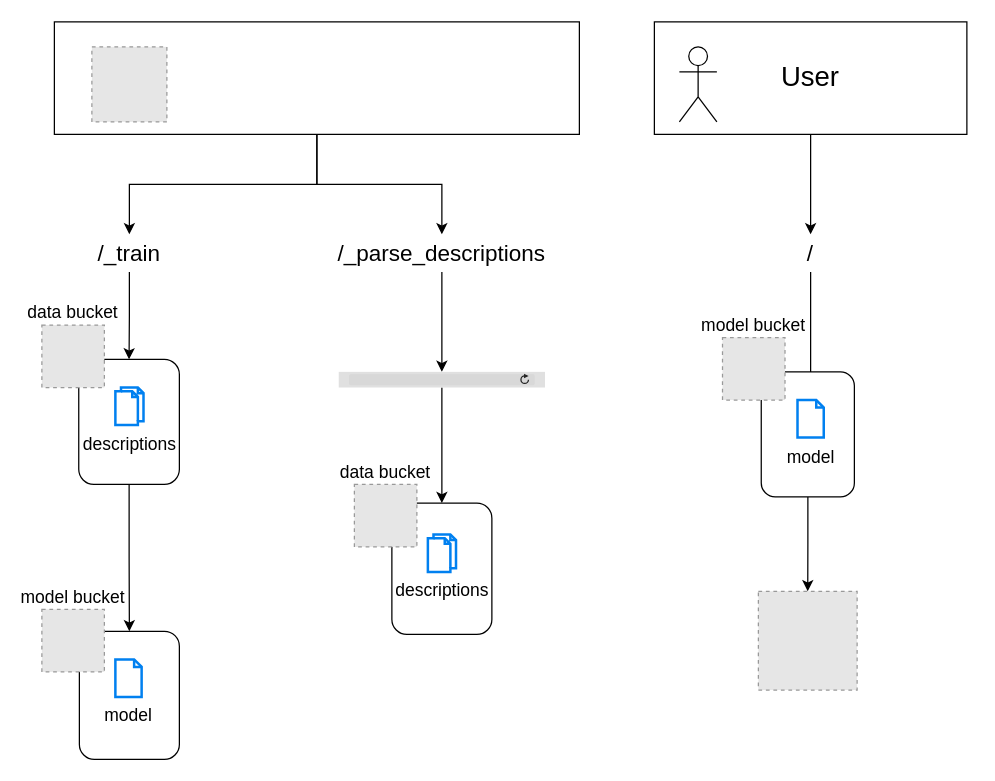
Image size: 995x781. Some labels were removed from this diagram. Grey dashed boxes stand in for pictures. The shapes that lost their labels are listed below. From the top down, each one's box as (x1, y1, x2, y2) in pixels, then its label:
(53, 21, 579, 134): App Engine / schedule
(338, 371, 545, 388): api.steampowered.com
